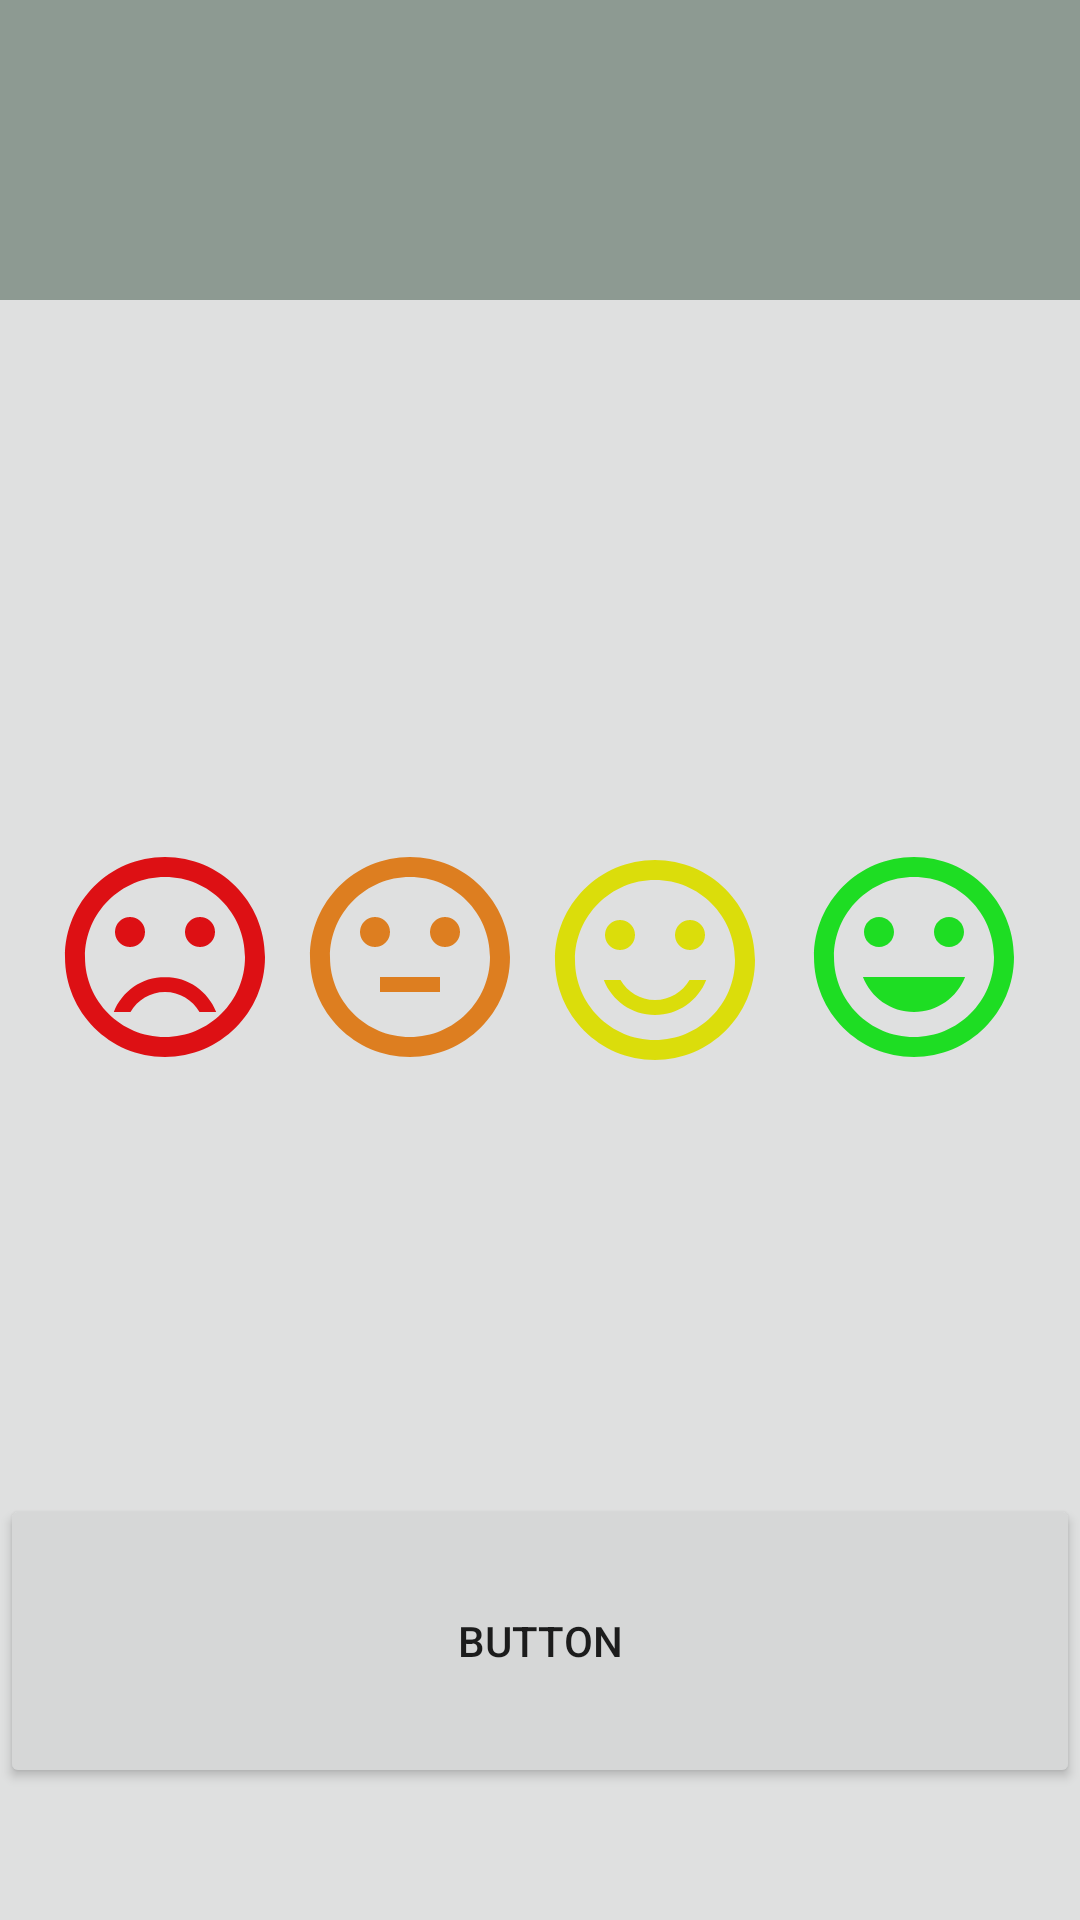

Screen size 1080×1920. Icon name, then its center in pixels as point (x, y):
smiley dissatisfied: point (165, 957)
smiley neutral: point (410, 957)
